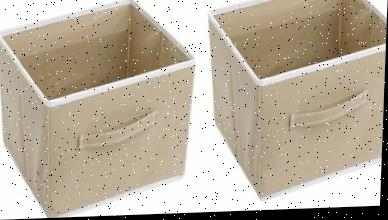cube: (0, 0, 195, 220), (206, 0, 388, 203)
